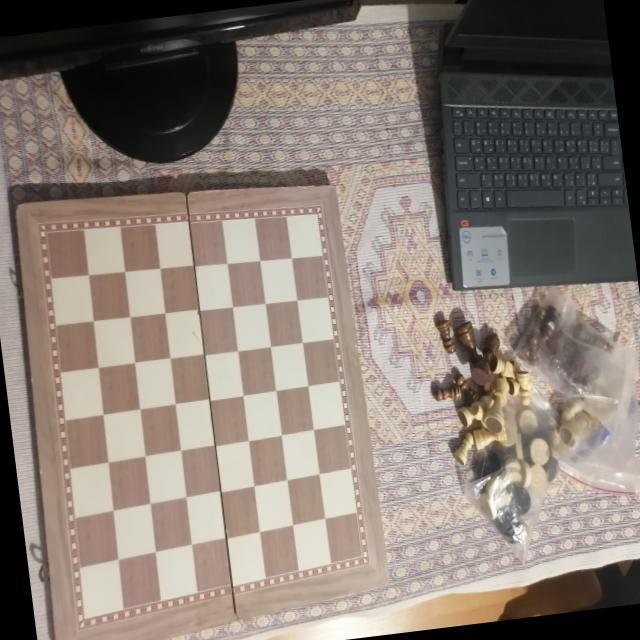corners: (326, 181, 341, 201), (12, 200, 28, 215), (382, 569, 394, 587)
